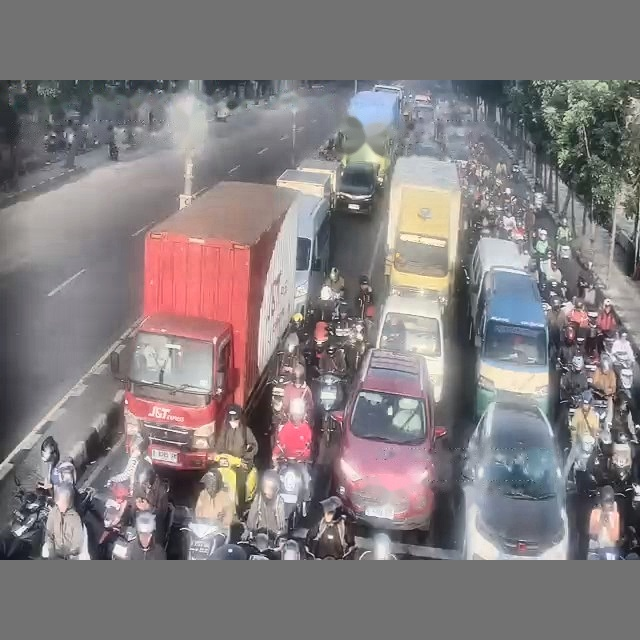Mobil: (333, 349, 446, 534), (462, 401, 568, 559)
Motor: (0, 478, 51, 559), (213, 453, 256, 513), (276, 458, 310, 529), (98, 483, 130, 558), (317, 372, 345, 444), (181, 518, 228, 559)
Truk: (111, 182, 302, 470), (385, 156, 461, 306), (340, 91, 401, 185)
